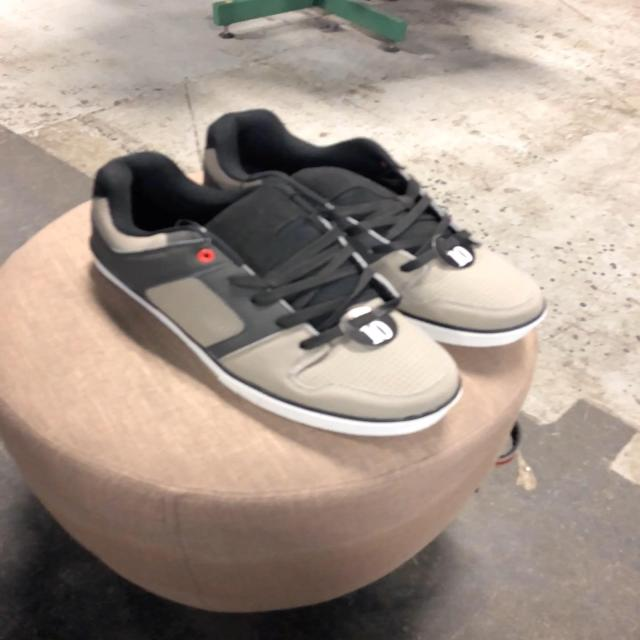shoe: (89, 152, 461, 431), (202, 109, 541, 333)
